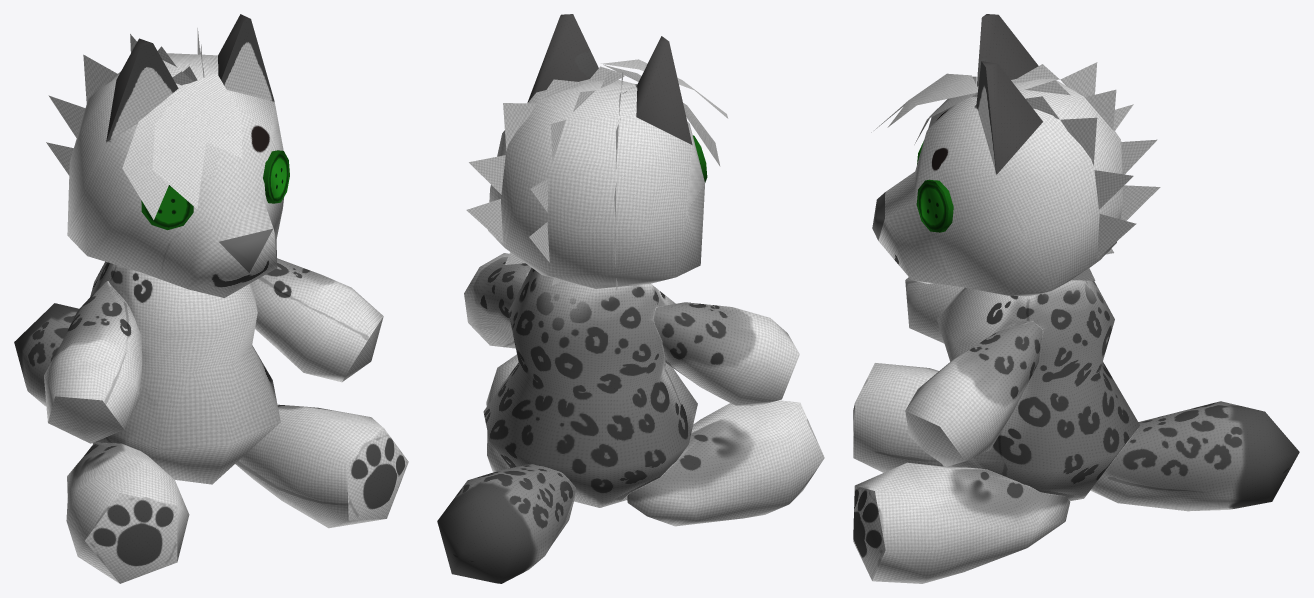
Rendered from Zyyph.fbx.
3 views of the same model, side by side, from view 1: azimuth 30°, elevation 25°; view 2: azimuth 150°, elevation 25°; view 3: azimuth 270°, elevation 25° (orthographic).
Parts seen in each view (by area): view 1: Icosphere; view 2: Icosphere; view 3: Icosphere.
Part boxes in pixels (x1=…): Icosphere: x1=14, y1=14, x2=408, y2=583; Icosphere: x1=437, y1=14, x2=824, y2=583; Icosphere: x1=853, y1=14, x2=1299, y2=583.
Size of the model in its own units: 26.64 by 37.95 by 31.5.
Materials: 3 (2 with a texture image).
